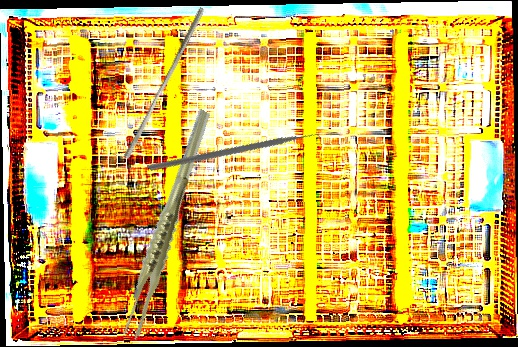Chopper: (146, 65, 329, 246)
Pusher: (123, 4, 205, 162)
Tissue Forceps: (84, 107, 252, 342)
